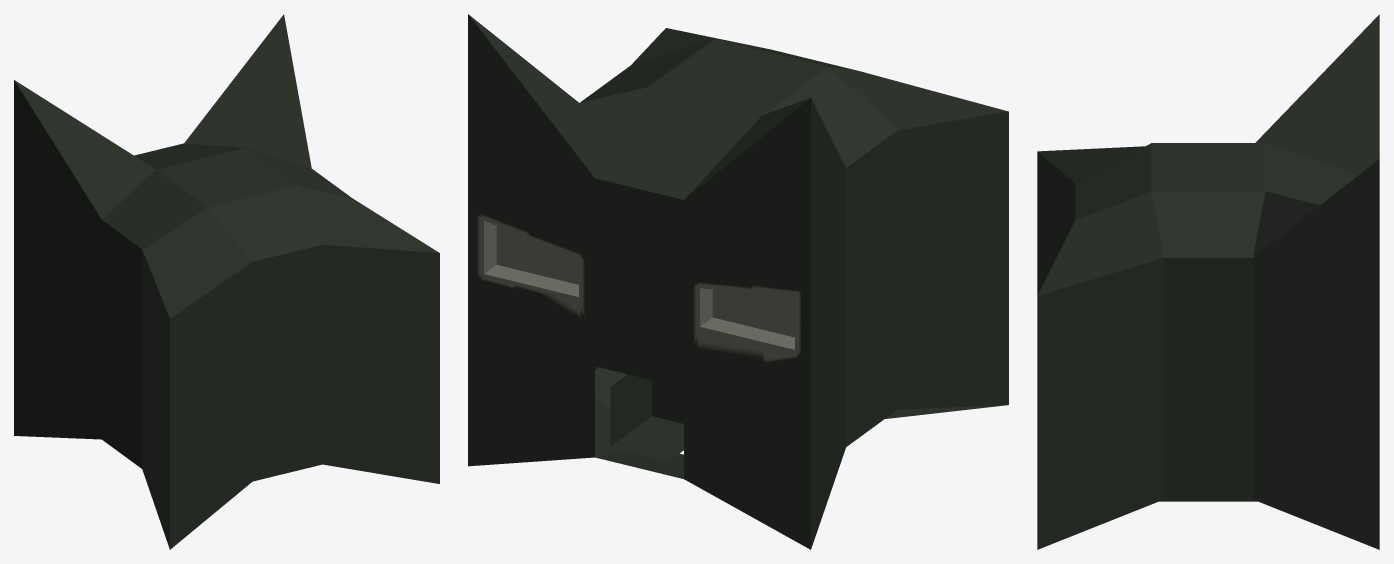
The model's file is dart_statue_head(poison_demon).fbx.
The picture shows the model from 3 angles, left to right: view 1: azimuth 30°, elevation 25°; view 2: azimuth 150°, elevation 25°; view 3: azimuth 270°, elevation 25°; orthographic projection. The views are drawn at different scales.
Parts seen in each view (by area): view 1: headVisual; view 2: headVisual; view 3: headVisual.
Boxes of the visible parts, <box> form: headVisual: <box>14,14,439,549</box>; headVisual: <box>468,14,1008,549</box>; headVisual: <box>1037,14,1379,549</box>.
Size of the model in its own units: 47.34 by 59.68 by 47.34.
1 material, 1 textured.
